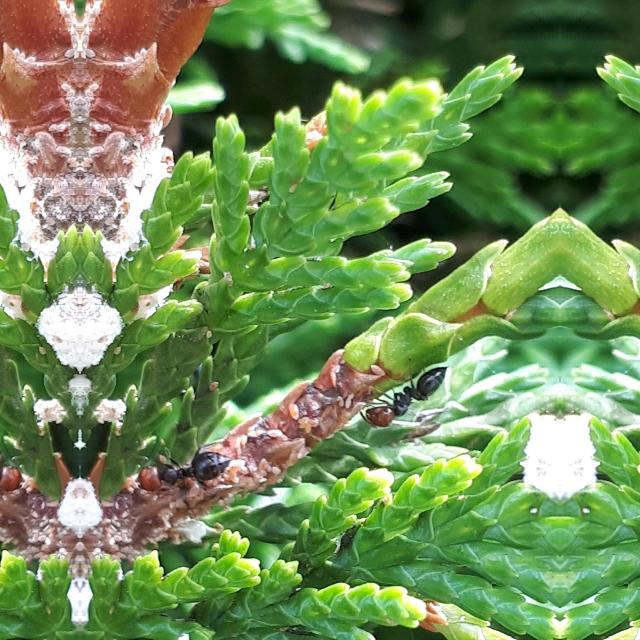Crematogaster: (364, 348, 456, 432), (127, 432, 227, 508), (0, 431, 33, 508)
